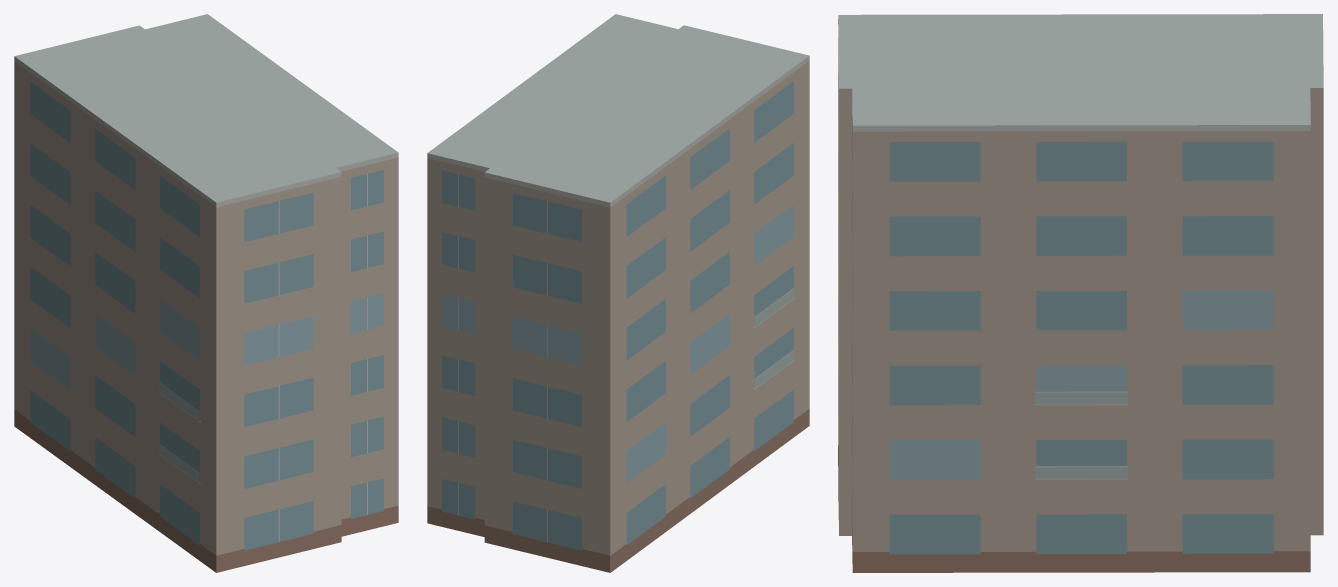
File: survey-upis-33024535.glb
3 renders of one model, left to right at view 1: azimuth 30°, elevation 25°; view 2: azimuth 150°, elevation 25°; view 3: azimuth 270°, elevation 25°, orthographic. The views are drawn at different scales.
Parts seen in each view (by area): view 1: survey-upis-33024535.tmp; view 2: survey-upis-33024535.tmp; view 3: survey-upis-33024535.tmp.
Part boxes in pixels (x1,y1,x2,y2): survey-upis-33024535.tmp: (14,14,398,572); survey-upis-33024535.tmp: (427,14,809,572); survey-upis-33024535.tmp: (838,14,1323,572).
Size of the model in its own units: 9.95 by 18.55 by 18.26.
